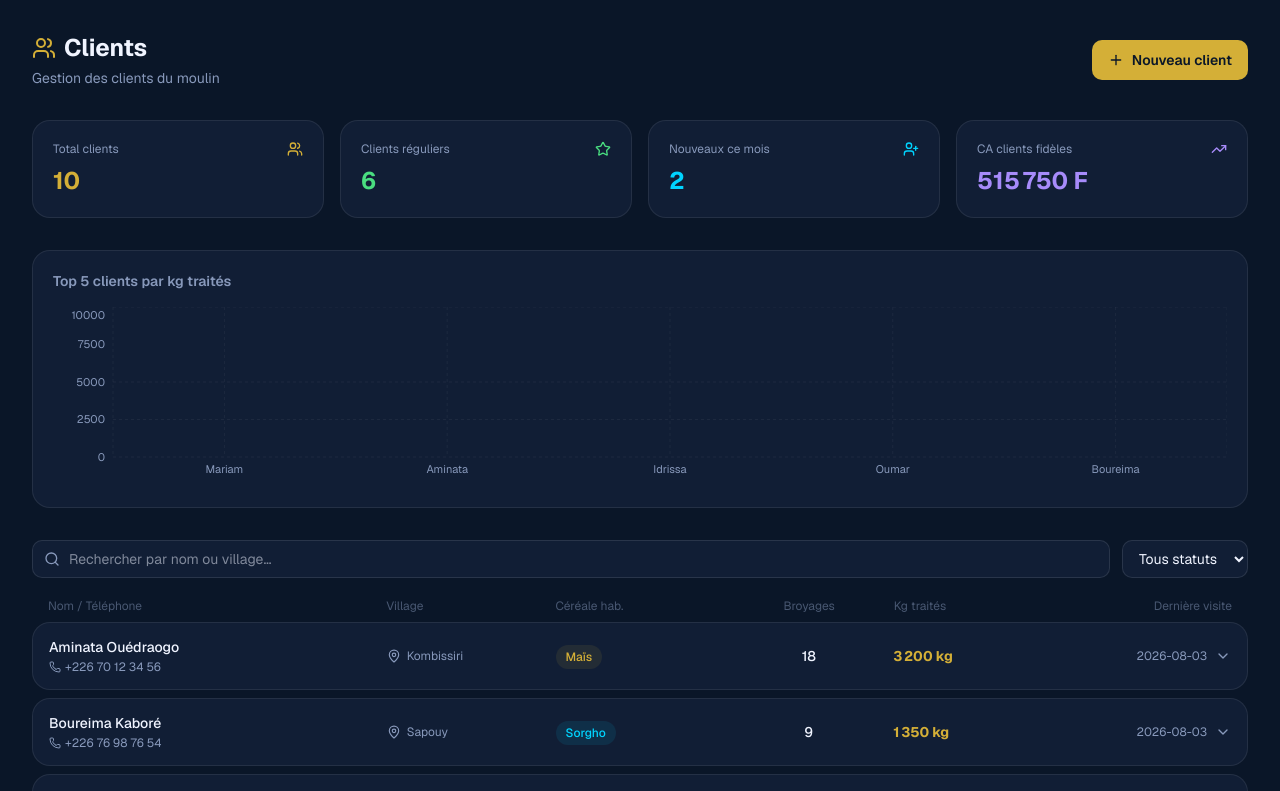
Scenario: ClientsPage — filtre statut › 27. filtre "Nouveau" masque Aminata Ouédraogo (Régulière)
The image size is (1280, 791).
Select "Nouveau" in the dropdown showing "Tous statuts" at (1185, 559), box x1=1122 y1=540 x2=1248 y2=578
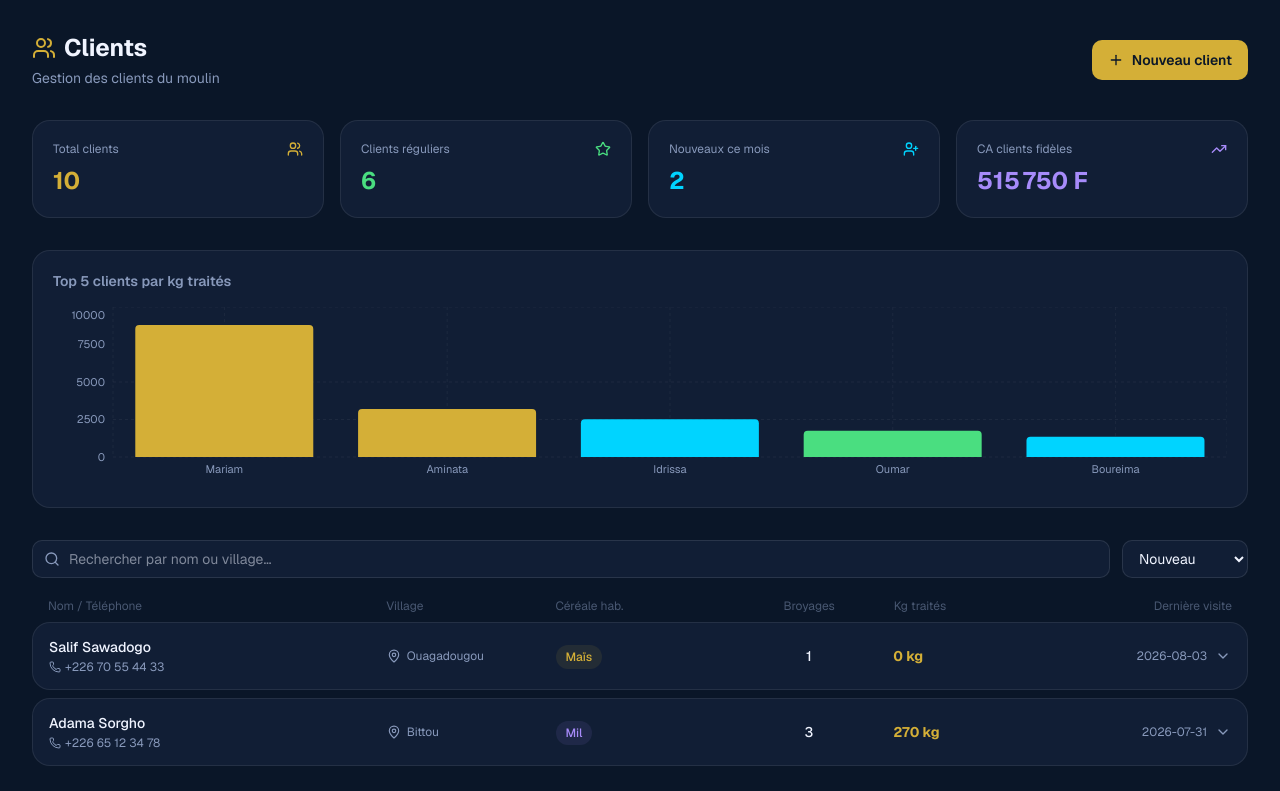
Now the text "Aminata Ouédraogo" is gone
